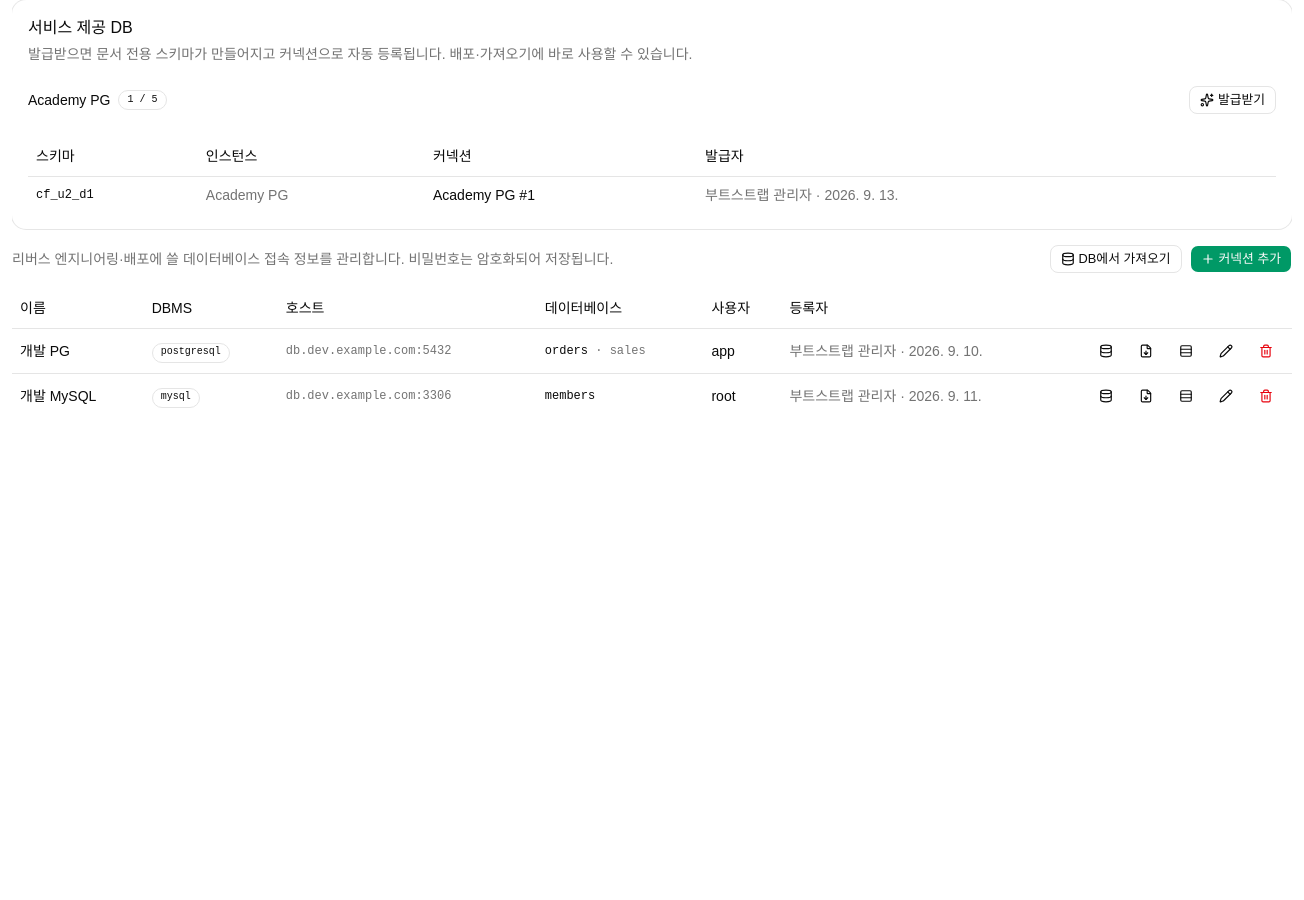
Test: 데이터베이스 탭 › 접속 테스트 성공 토스트를 띄운다
The width and height of the screenshot is (1304, 900).
Click the button named "개발 PG 접속 테스트".
click(1106, 351)  # box [1088,337,1124,365]
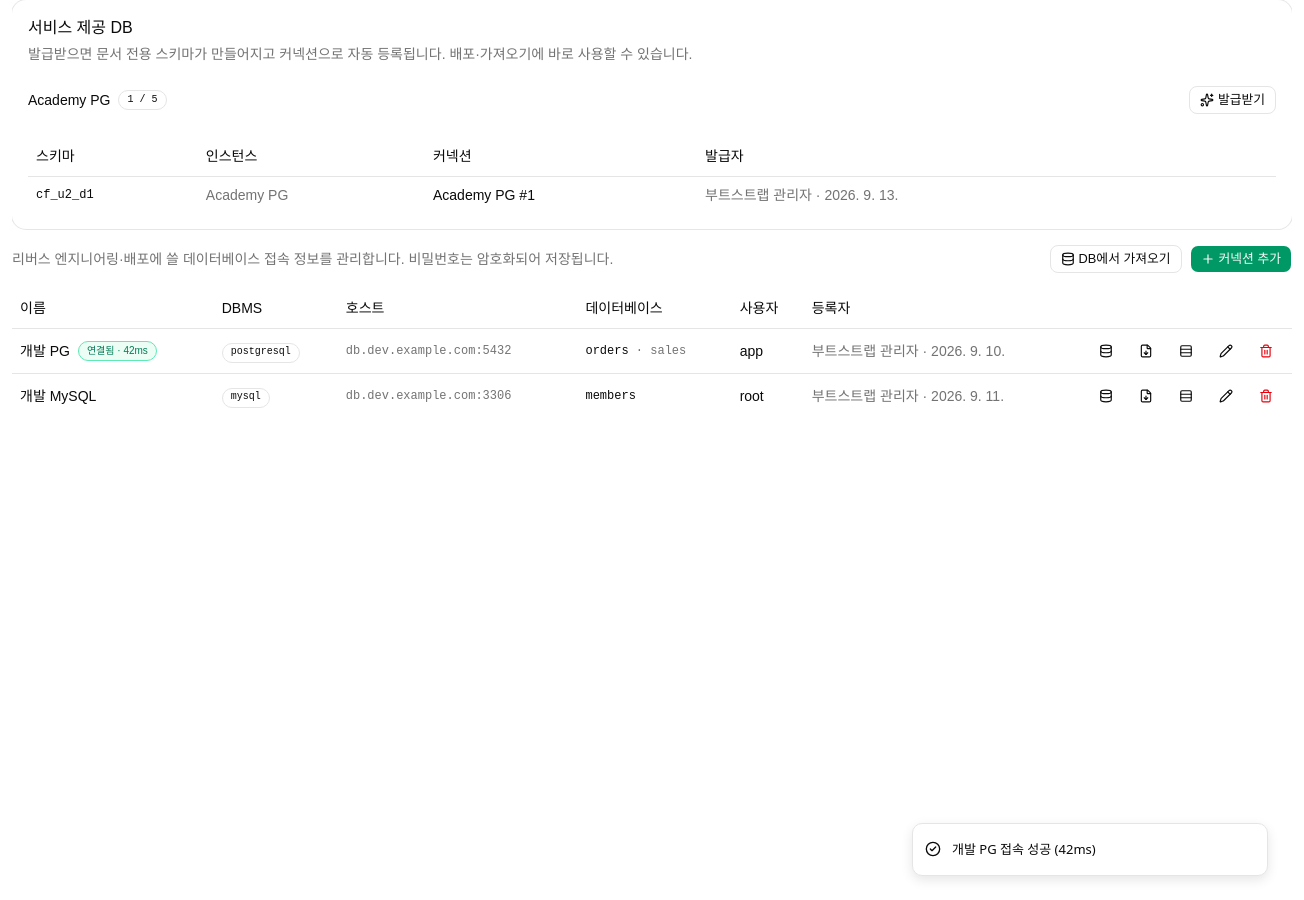
Now the text "개발 PG 접속 성공 (42ms)" is shown, box [952,840,1096,859]
Now the text "연결됨 · 42ms" is shown, box [78,341,157,361]
